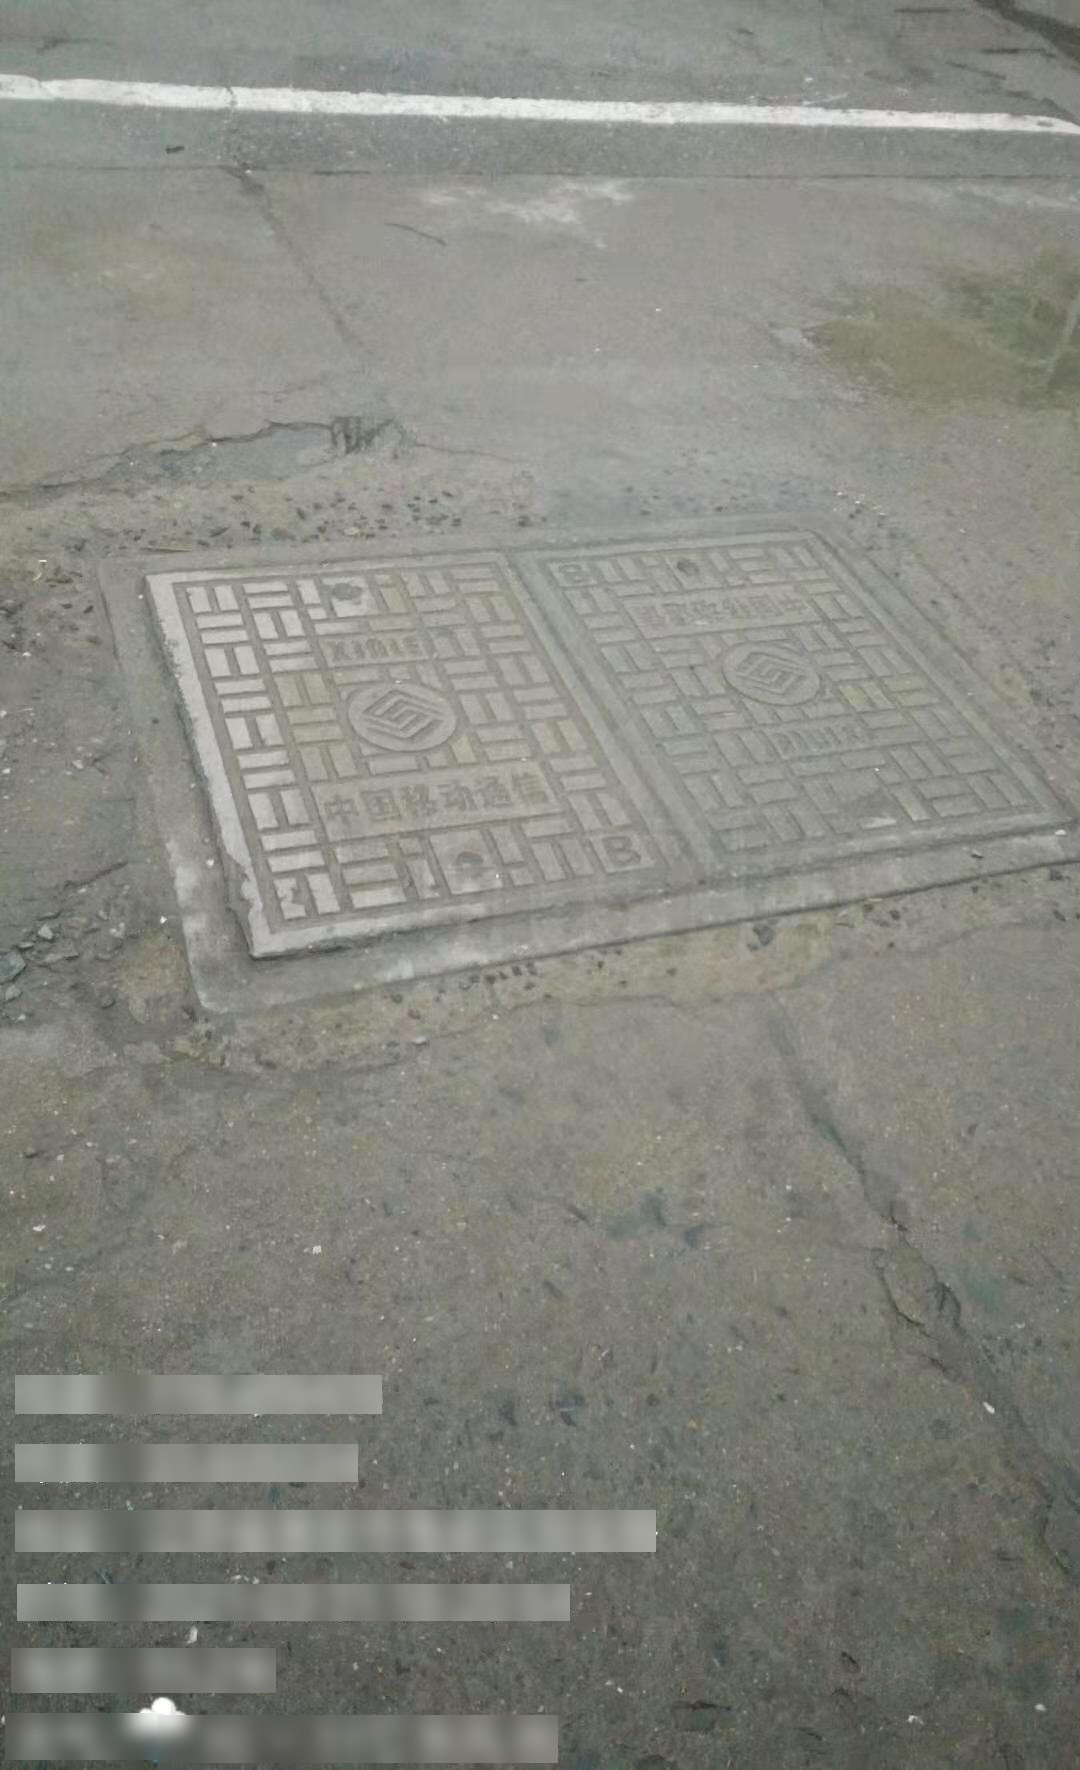good: (99, 518, 1080, 1011)
